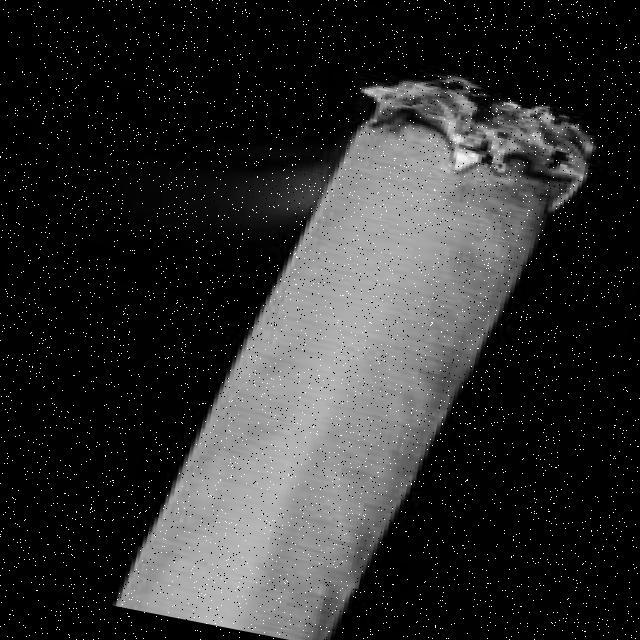cigarette: (171, 42, 601, 640)
